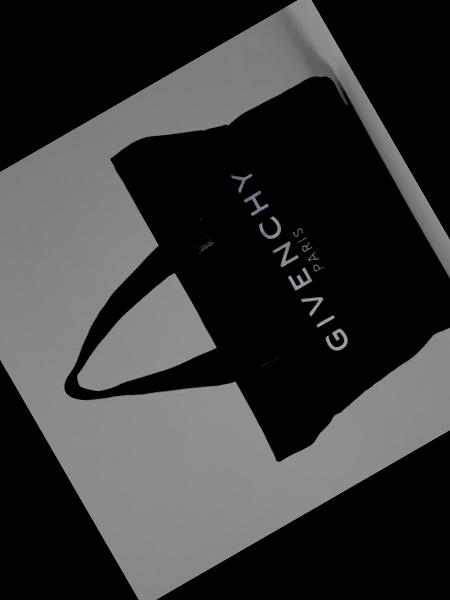GIVENCHY: (210, 150, 362, 370)
